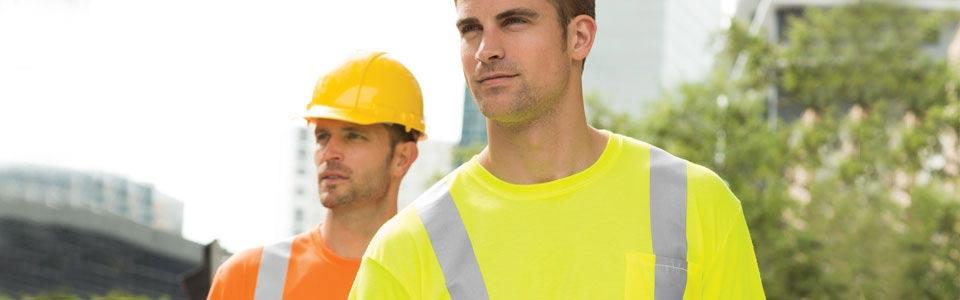helmet: (307, 53, 434, 134)
